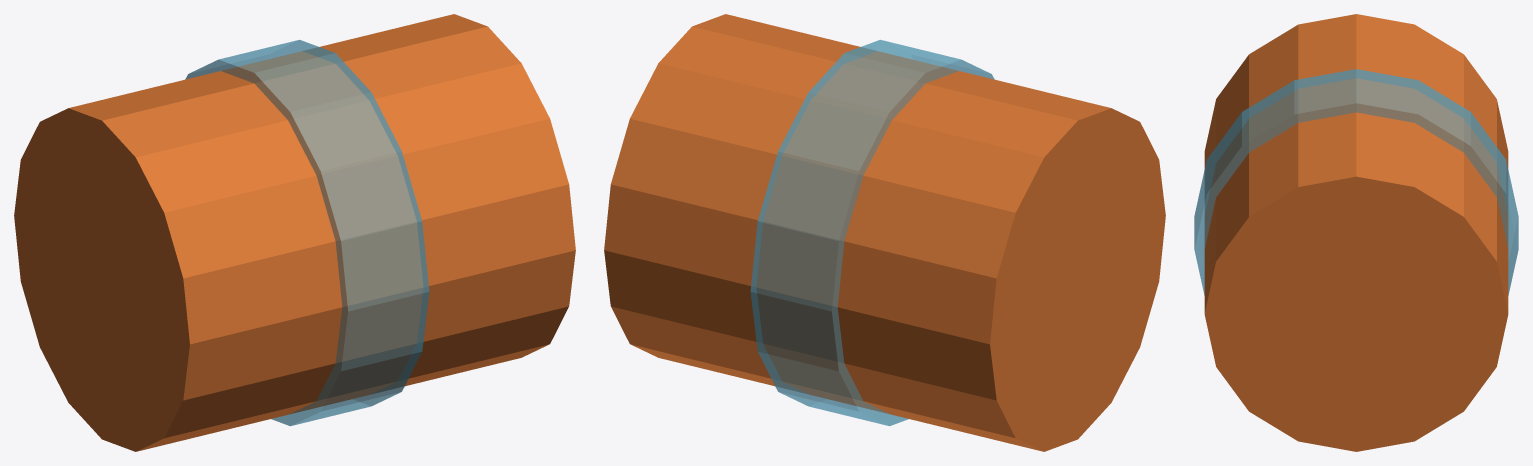
File: 08_L69_RefrigerantSightGlass.fbx
The picture shows the model from 3 angles, left to right: view 1: azimuth 30°, elevation 25°; view 2: azimuth 150°, elevation 25°; view 3: azimuth 270°, elevation 25°; orthographic projection. The views are drawn at different scales.
Parts seen in each view (by area): view 1: RefrigerantSightGlass; view 2: RefrigerantSightGlass; view 3: RefrigerantSightGlass.
Boxes of the visible parts, x1=… form: RefrigerantSightGlass: x1=14, y1=14, x2=575, y2=451; RefrigerantSightGlass: x1=604, y1=14, x2=1165, y2=451; RefrigerantSightGlass: x1=1194, y1=14, x2=1518, y2=451.
Bounding box in the file's own units: 38 × 32 × 32.
